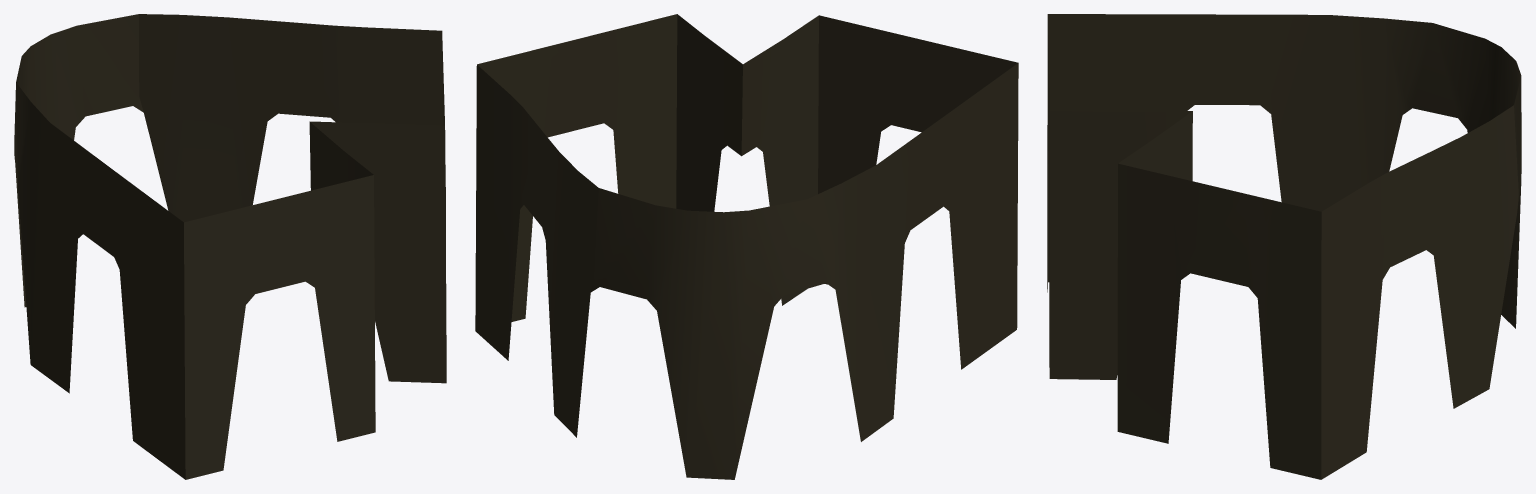
The model's file is Road_Corner_Bridge.fbx.
The picture shows the model from 3 angles, left to right: view 1: azimuth 30°, elevation 25°; view 2: azimuth 150°, elevation 25°; view 3: azimuth 270°, elevation 25°; orthographic projection. The views are drawn at different scales.
Parts seen in each view (by area): view 1: Road_Corner_Bridge; view 2: Road_Corner_Bridge; view 3: Road_Corner_Bridge.
Boxes of the visible parts, x1=… form: Road_Corner_Bridge: x1=14, y1=14, x2=446, y2=479; Road_Corner_Bridge: x1=475, y1=14, x2=1018, y2=479; Road_Corner_Bridge: x1=1047, y1=14, x2=1521, y2=479.
Size of the model in its own units: 0.6157 by 0.6211 by 0.3896.
